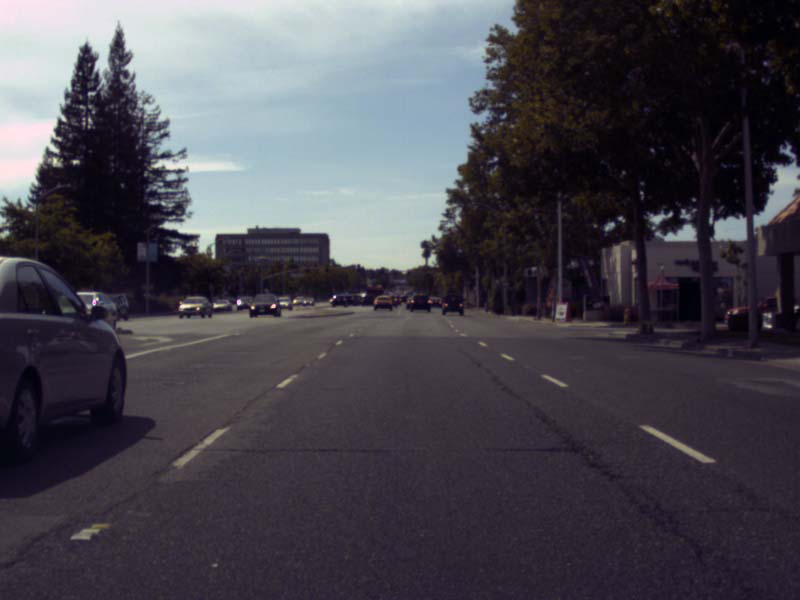Yellow: (426, 271, 429, 277)
